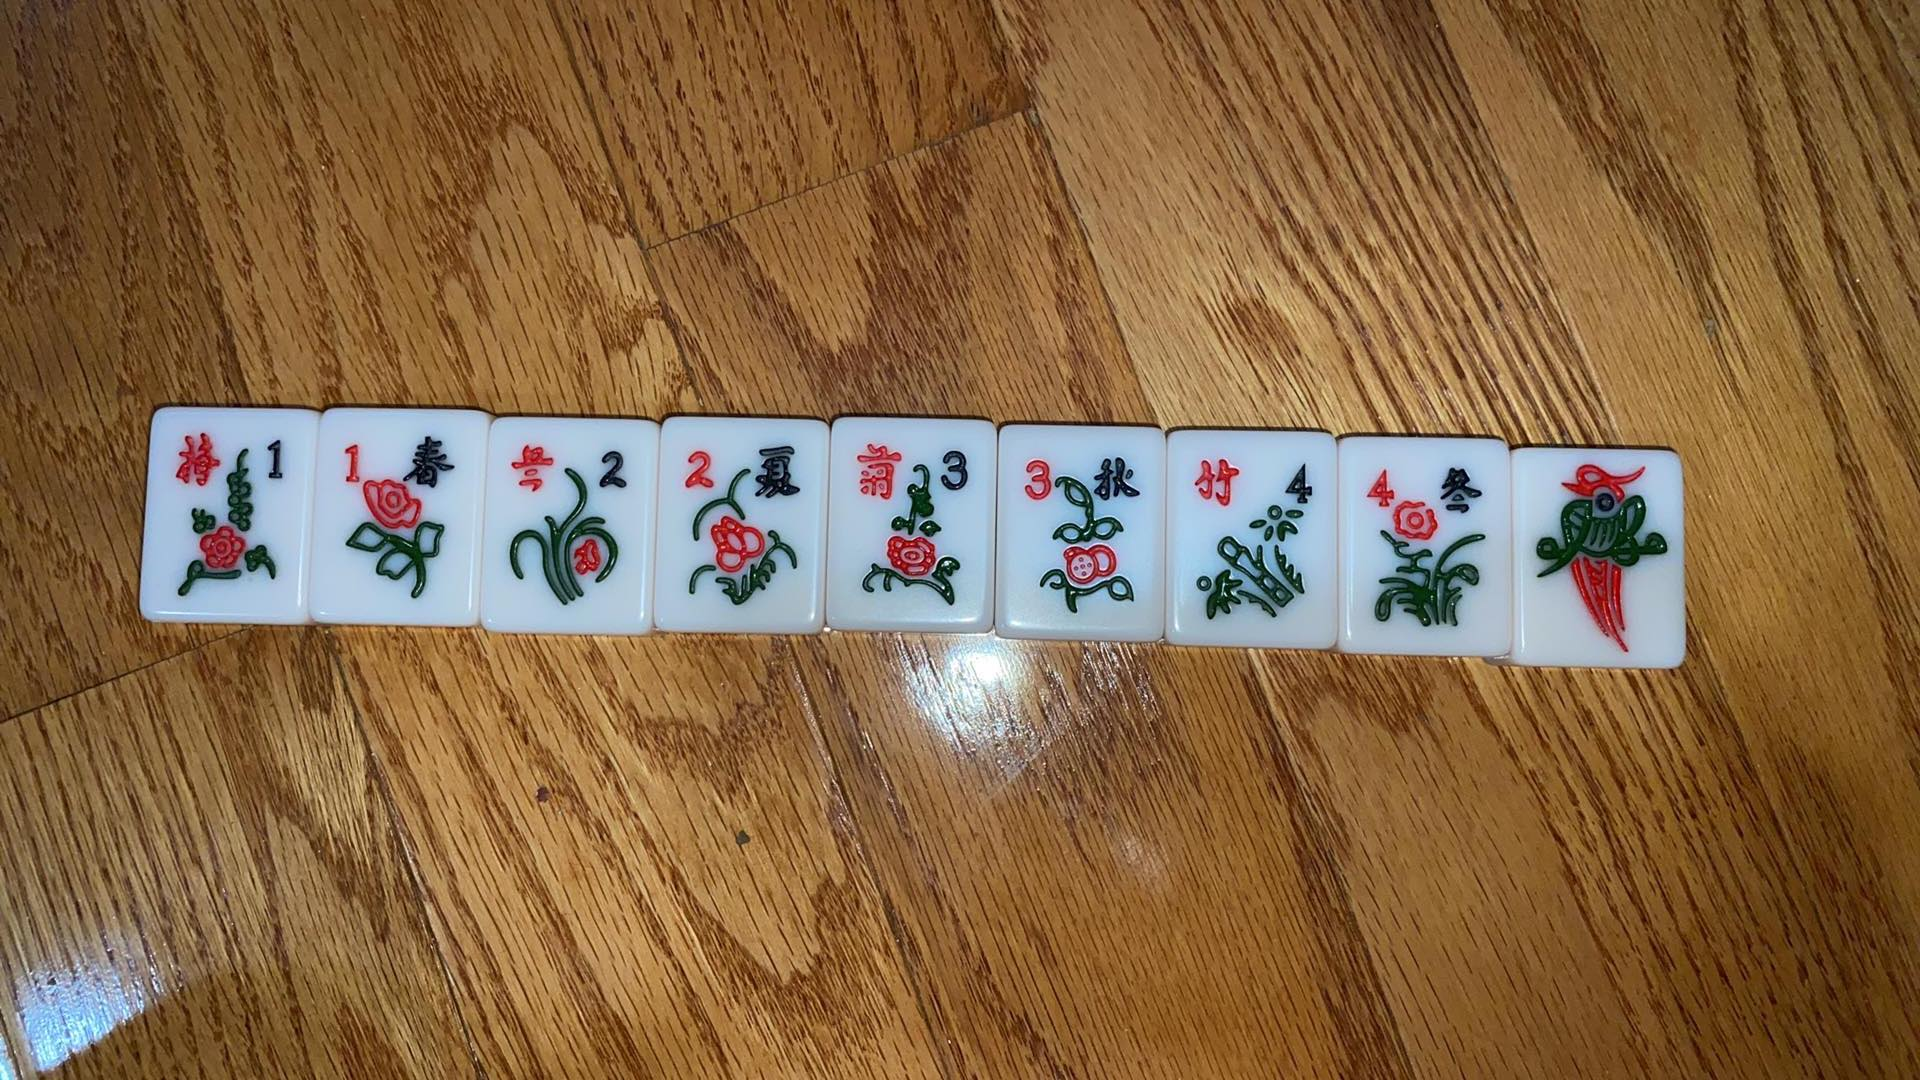bamboo-one: (1510, 448, 1687, 669)
flower-blue_four: (1166, 430, 1338, 649)
flower-blue_one: (138, 407, 320, 622)
flower-blue_three: (824, 415, 1000, 633)
flower-blue_two: (479, 417, 659, 636)
flower-red_four: (1338, 438, 1513, 655)
flower-red_one: (309, 407, 489, 626)
flower-red_three: (996, 423, 1164, 644)
flower-red_two: (651, 415, 831, 634)
